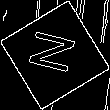N_E: (26, 29, 84, 81)
